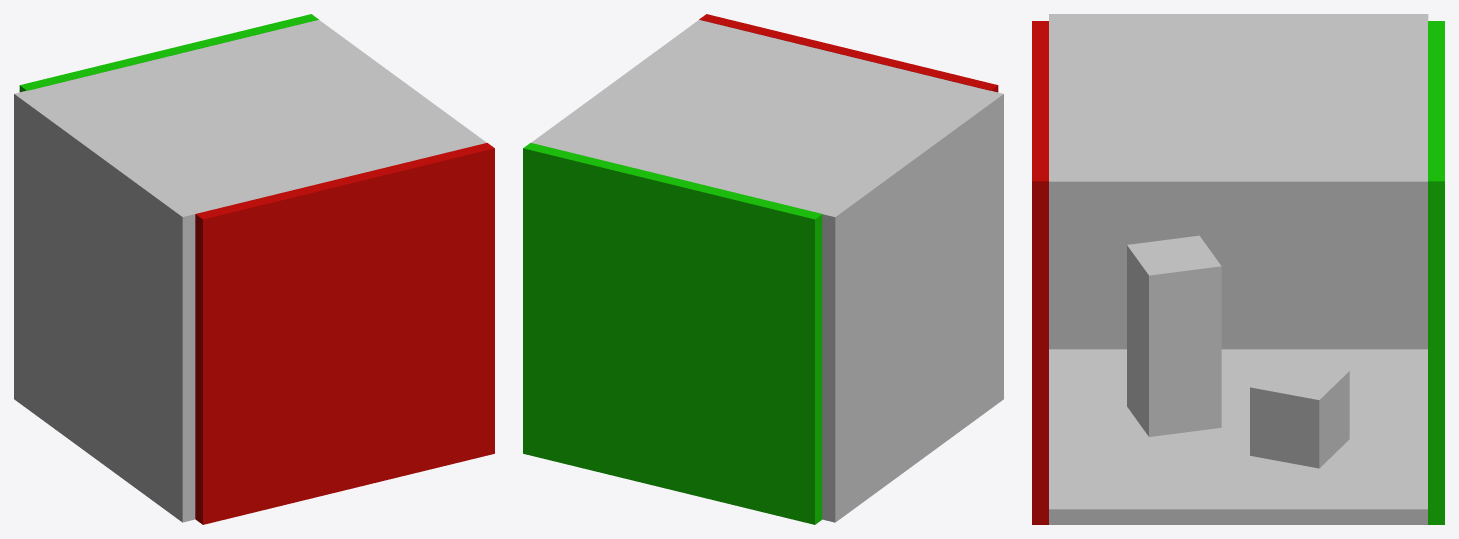
Rendered from CornellBox.dae.
3 renders of one model, left to right at view 1: azimuth 30°, elevation 25°; view 2: azimuth 150°, elevation 25°; view 3: azimuth 270°, elevation 25°, orthographic. The views are drawn at different scales.
Visible parts, largest first — view 1: CornellRedWall, CornellBackWall, CornellCeiling, CornellGreenWall; view 2: CornellGreenWall, CornellBackWall, CornellCeiling, CornellRedWall; view 3: CornellCeiling, CornellBackWall, CornellFloor, CornellTallBox, CornellShortBox, CornellRedWall, CornellGreenWall.
Part boxes in pixels (left/top/right/bottom): CornellRedWall: left=195, top=143, right=494, bottom=524; CornellBackWall: left=14, top=90, right=195, bottom=522; CornellCeiling: left=28, top=20, right=486, bottom=213; CornellGreenWall: left=19, top=14, right=318, bottom=92; CornellGreenWall: left=523, top=143, right=822, bottom=524; CornellBackWall: left=822, top=91, right=1003, bottom=522; CornellCeiling: left=531, top=20, right=989, bottom=213; CornellRedWall: left=699, top=14, right=998, bottom=92; CornellCeiling: left=1049, top=21, right=1427, bottom=196; CornellBackWall: left=1049, top=14, right=1428, bottom=349; CornellFloor: left=1049, top=349, right=1427, bottom=524; CornellTallBox: left=1127, top=235, right=1221, bottom=436; CornellShortBox: left=1250, top=358, right=1349, bottom=468; CornellRedWall: left=1032, top=21, right=1048, bottom=524; CornellGreenWall: left=1428, top=21, right=1444, bottom=524.
Size of what is drawn, in the model's own units: 10.44 by 10.88 by 10.
